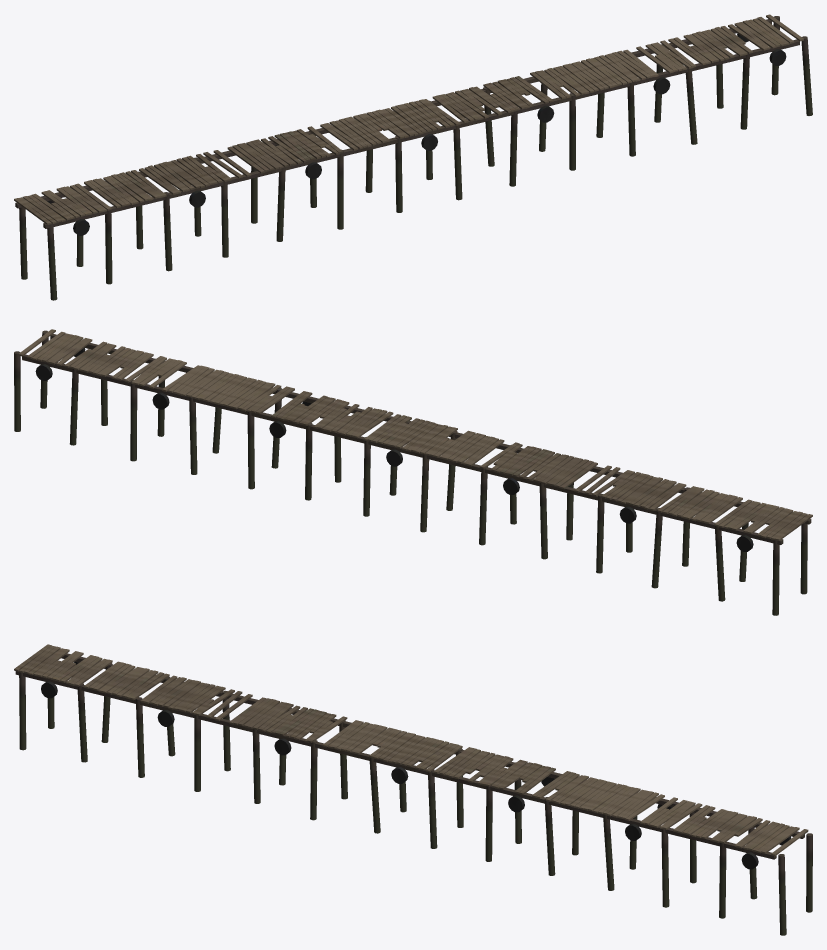
The model's file is a06_pier_b.glb.
The picture shows the model from 3 angles, top to bottom: view 1: azimuth 30°, elevation 25°; view 2: azimuth 150°, elevation 25°; view 3: azimuth 330°, elevation 25°; orthographic projection.
Parts seen in each view (by area): view 1: body; view 2: body; view 3: body.
Part boxes in pixels (<box>): body: <box>14,14,812,300</box>; body: <box>14,329,812,615</box>; body: <box>14,644,812,935</box>.
Bounding box in the file's own units: 1 × 0.0982 × 0.0804.
1 material, 1 textured.
